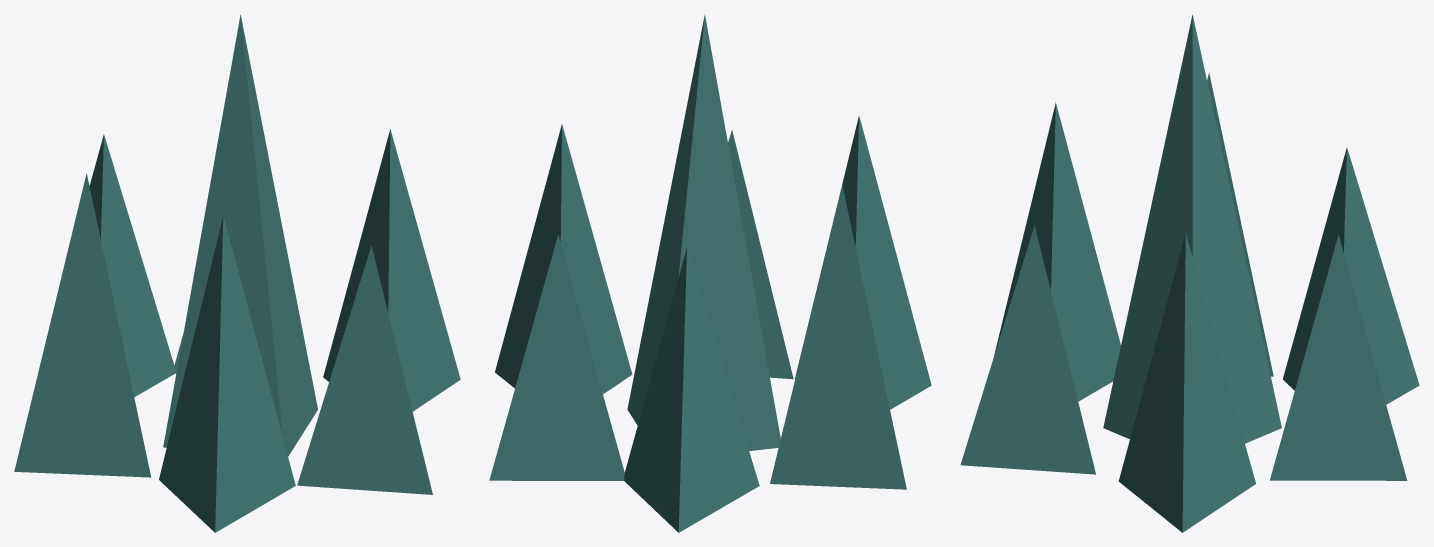
File: agave_1.obj
3 views of the same model, side by side, from view 1: azimuth 30°, elevation 25°; view 2: azimuth 150°, elevation 25°; view 3: azimuth 270°, elevation 25° (orthographic).
Parts seen in each view (by area): view 1: agave_1; view 2: agave_1; view 3: agave_1.
Boxes of the visible parts, x1,y1,x2,y2 form: agave_1: [14, 15, 460, 532]; agave_1: [489, 14, 931, 532]; agave_1: [960, 15, 1419, 532].
Size of the model in its own units: 0.4986 by 0.46 by 0.4623.
